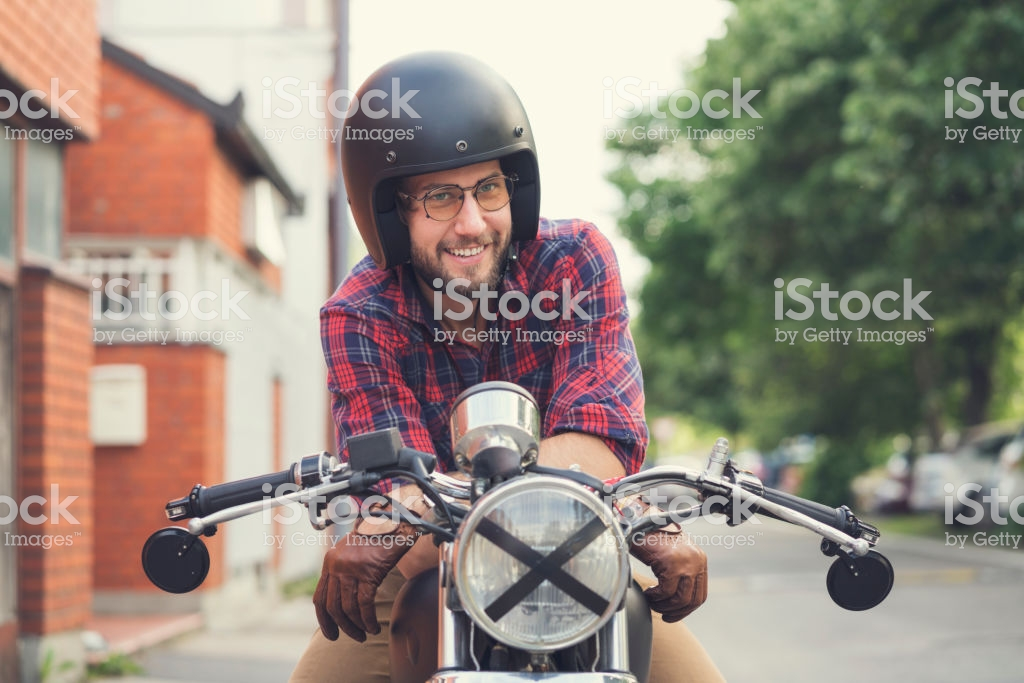helmet: (329, 44, 543, 238)
